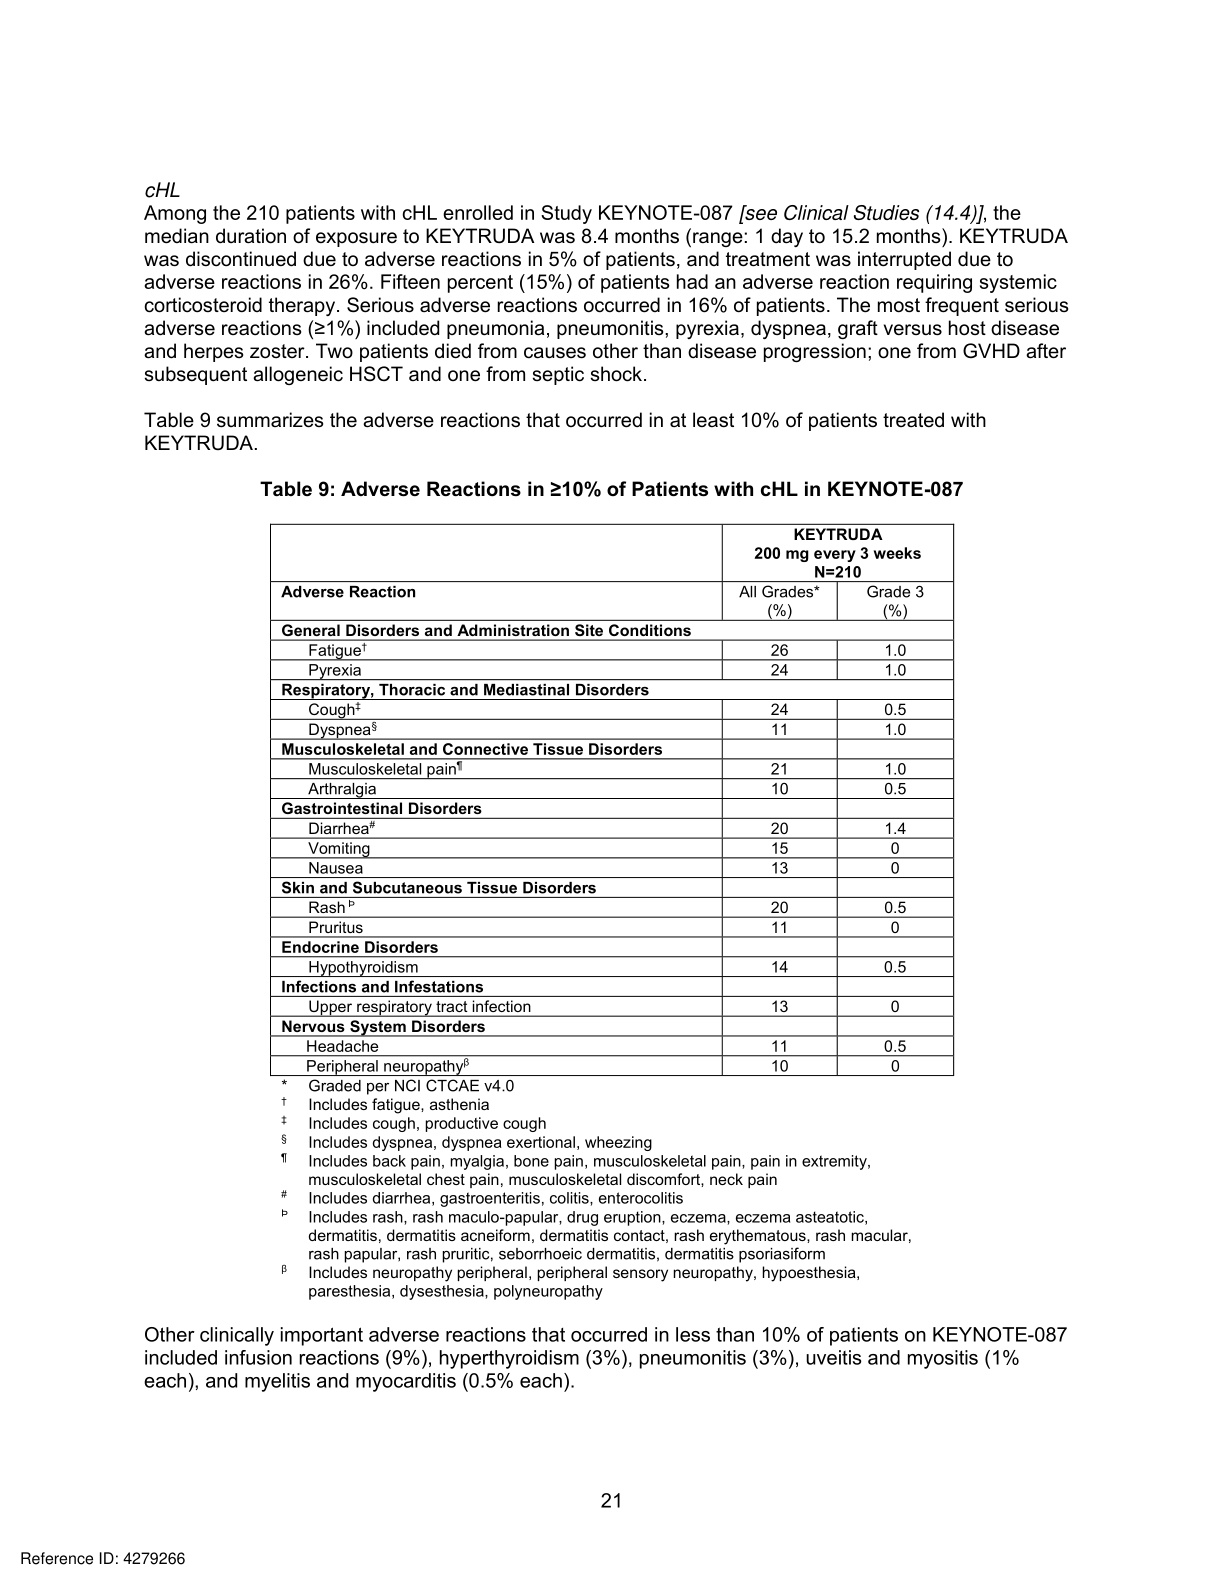merged_cells: (269, 523, 955, 1077)
